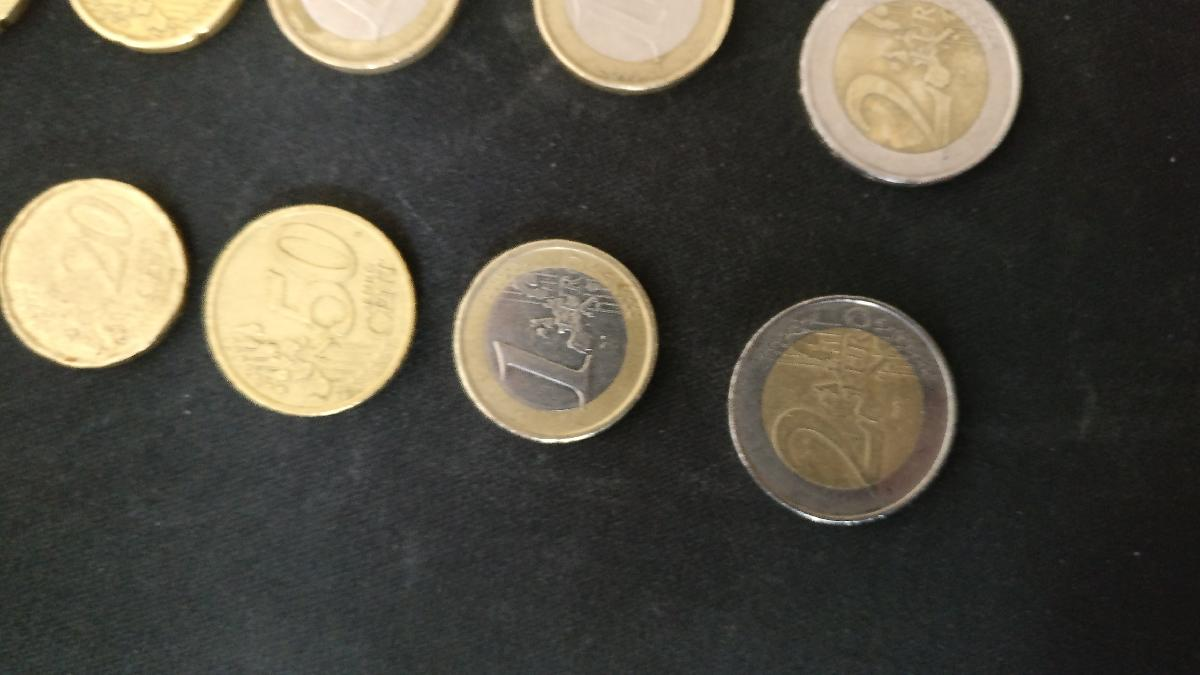Fifty Cent: (203, 209, 419, 421)
One Euro: (456, 240, 661, 443), (536, 1, 739, 98), (261, 1, 466, 73)
Twenty Cent: (1, 167, 187, 375), (70, 1, 241, 56)
Two Euro: (724, 294, 957, 528), (796, 1, 1022, 186)
